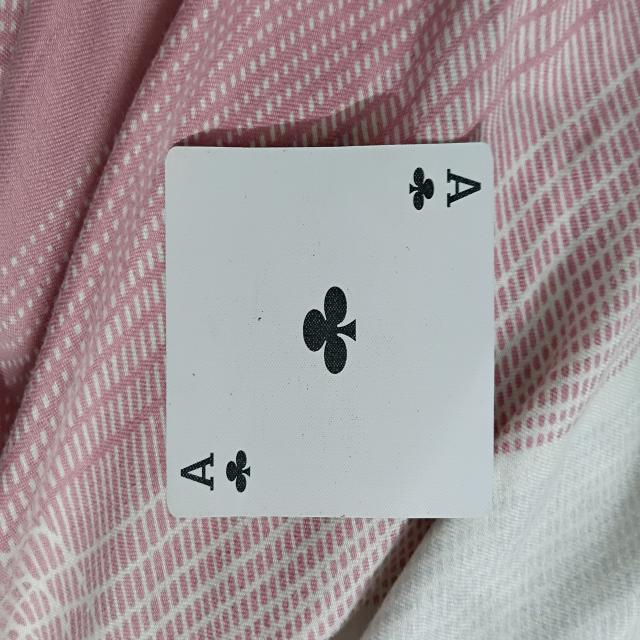AC: (164, 142, 496, 518)
